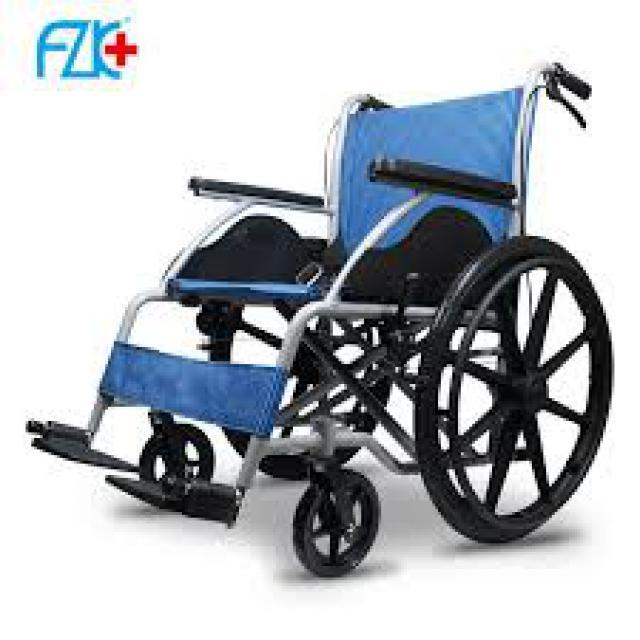wheelchair: (12, 51, 614, 583)
